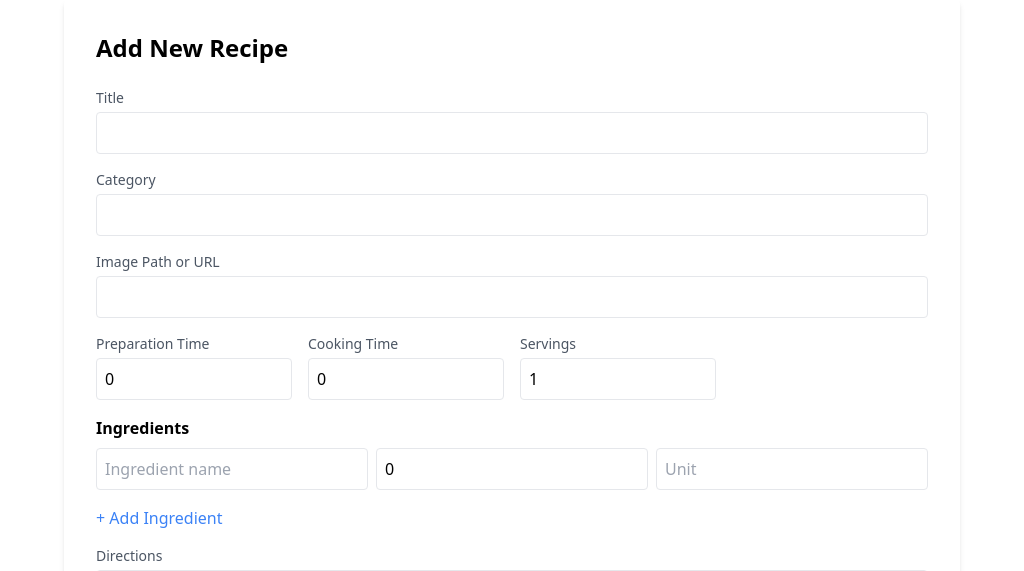
Scenario: AddRecipe Page › can add and remove ingredient inputs
Click the button "+ Add Ingredient": (159, 518) [96,506,222,530]
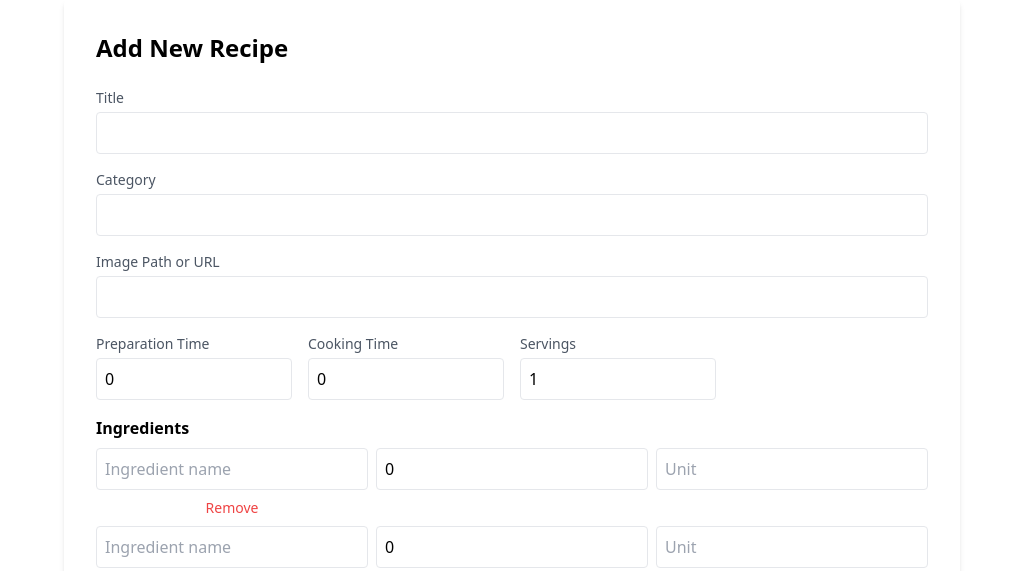
Click the 1st button "Remove": (232, 508) [96,498,368,518]
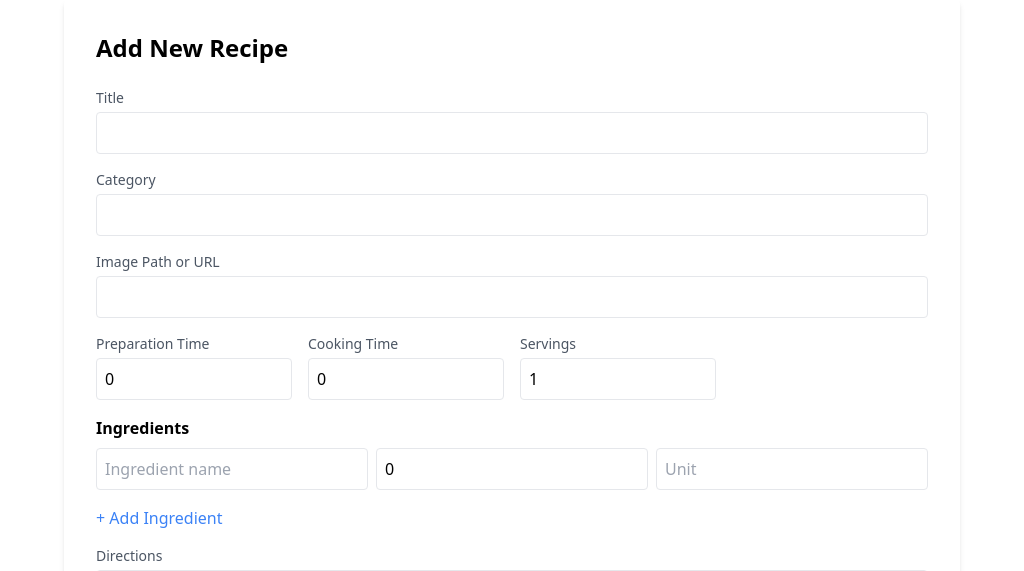
Check: the number of fields with placeholder "Ingredient name" is 1, box [96,448,368,490]
